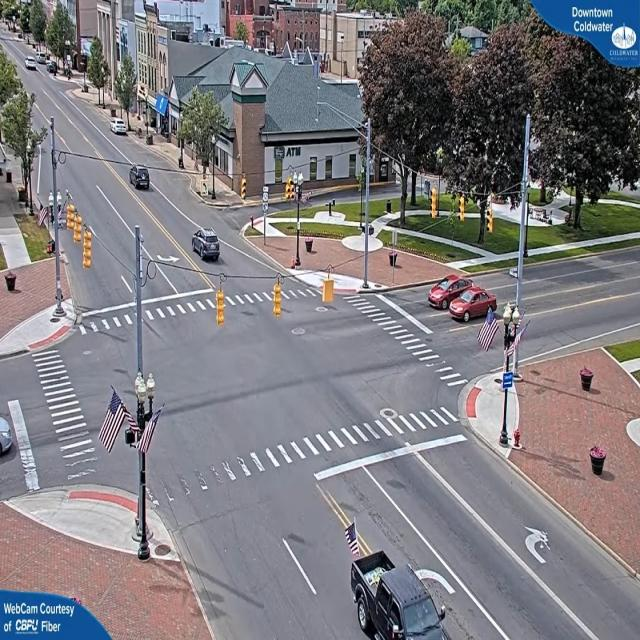car: (354, 561, 466, 638), (428, 278, 493, 324), (191, 229, 223, 261), (1, 411, 18, 460), (131, 166, 153, 191), (111, 121, 130, 138), (26, 58, 38, 71)
